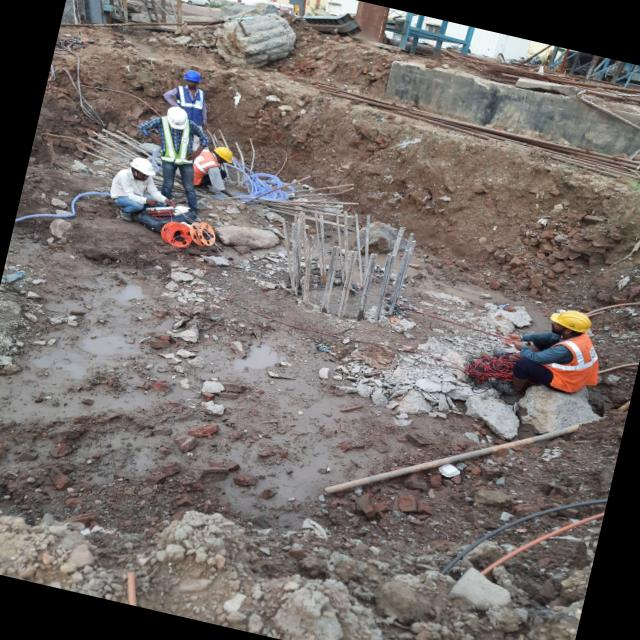red-sand: (79, 20, 640, 331), (16, 73, 119, 216)
rocks: (152, 511, 526, 640), (0, 511, 117, 598)
white-sand: (0, 198, 619, 640), (492, 518, 603, 640)
